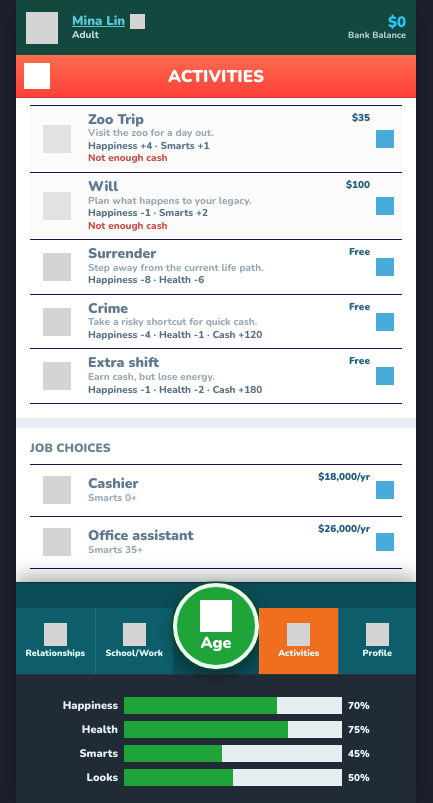
Test case: App › shows job options for adults and hides them after employment
(page scrolled)
What coordinates should you click on to do the following:
click the button "Cashier Smarts 0+ $18,000/yr"
I would click on:
 (113, 483)
Its box is [30, 465, 402, 517].
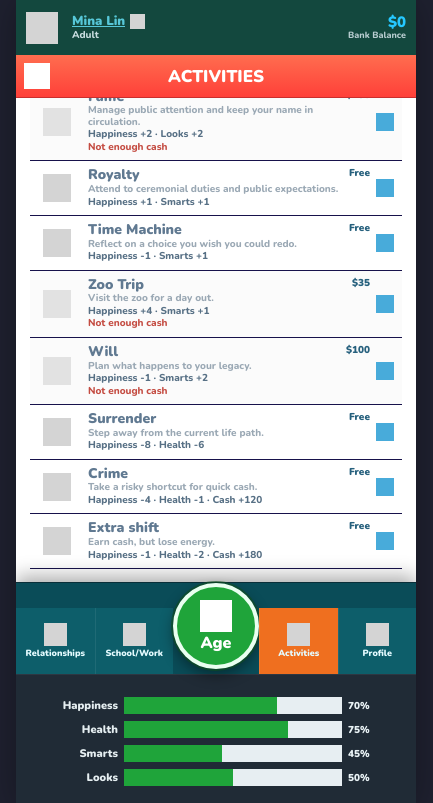
Check: the button "Cashier" is gone
